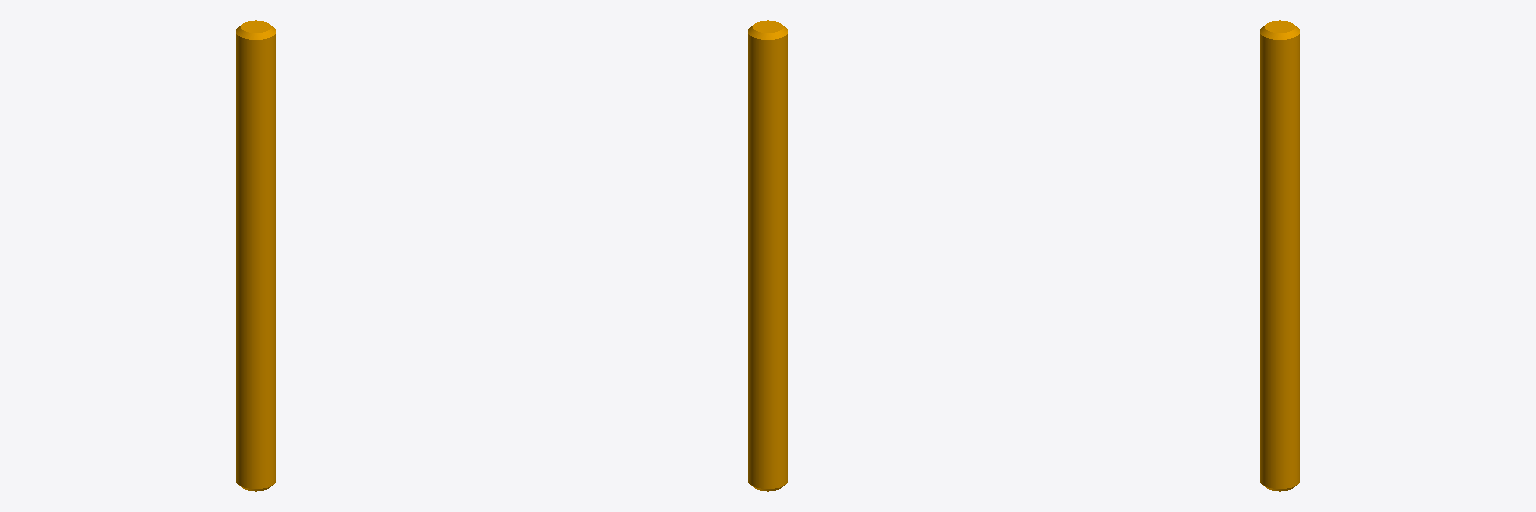
robot.urdf — factory_round_peg_4mm_loose:
<?xml version="1.0"?>
<robot name="factory_round_peg_4mm_loose">
    <link name="factory_round_peg_4mm_loose">
        <visual>
            <geometry>
                <mesh filename="../mesh/factory_insertion/factory_round_peg_4mm_loose.obj"/>
            </geometry>
        </visual>
        <collision>
            <geometry>
                <mesh filename="../mesh/factory_insertion/factory_round_peg_4mm_loose.obj"/>
            </geometry>
            <!-- sdf resolution="256"-->
        </collision>
    </link>
</robot>

--- Render facts (derived) ---
The picture shows the robot from 3 angles, left to right: view 1: azimuth 30°, elevation 25°; view 2: azimuth 150°, elevation 25°; view 3: azimuth 270°, elevation 25°; orthographic projection.
Robot: factory_round_peg_4mm_loose — 1 links, 0 joints (none); root link factory_round_peg_4mm_loose; default pose: all joints at 0.
Visible links, largest first — view 1: factory_round_peg_4mm_loose; view 2: factory_round_peg_4mm_loose; view 3: factory_round_peg_4mm_loose.
Boxes of the visible links, x1,y1,x2,y2 form: factory_round_peg_4mm_loose: (236, 20, 275, 491); factory_round_peg_4mm_loose: (748, 20, 787, 491); factory_round_peg_4mm_loose: (1260, 20, 1299, 491).
Size in the robot's own frame: 0.004 by 0.004 by 0.05 metres.
1 mesh visuals loaded from 1 distinct referenced files (1 OBJ).
